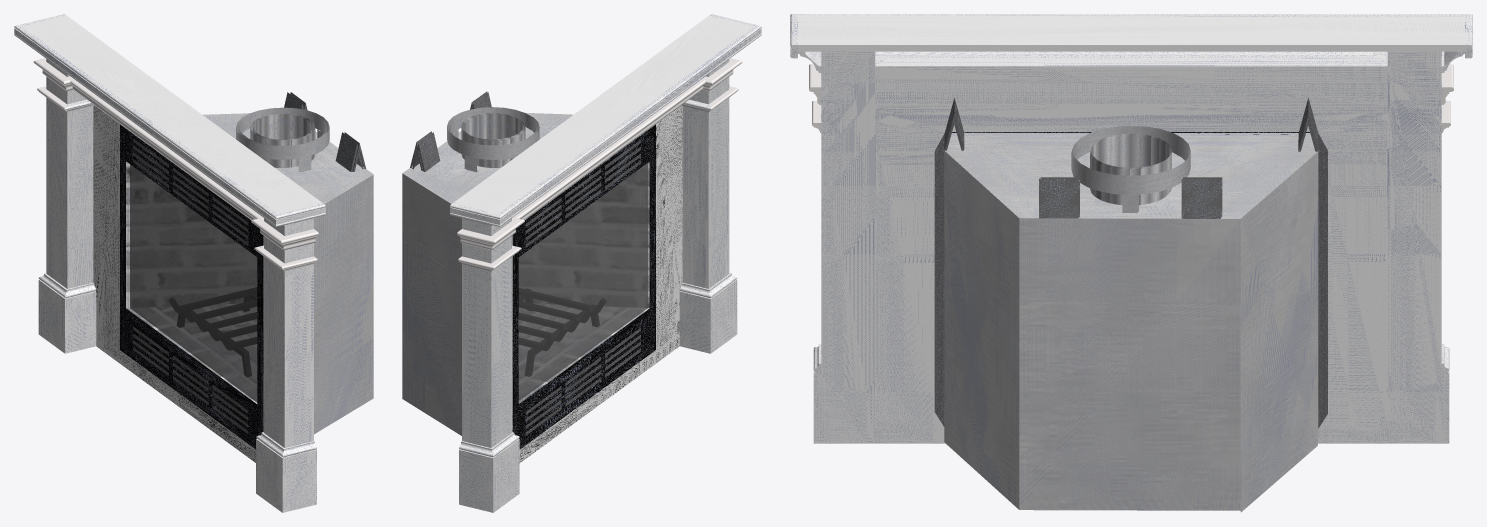
3 views of the same model, side by side, from view 1: azimuth 30°, elevation 25°; view 2: azimuth 150°, elevation 25°; view 3: azimuth 270°, elevation 25° (orthographic). The views are drawn at different scales.
Parts seen in each view (by area): view 1: group_2 (×6), WBFP-36 (×10), group_0, rail (×3), foot; view 2: group_2 (×6), WBFP-36 (×10), group_0, rail (×3), foot; view 3: group_2 (×2), WBFP-36 (×8), crown_moulding_3 (×2).
Boxes of the visible parts, x1,y1,x2,y2 form: group_2 (×6): [14, 14, 325, 512]; WBFP-36 (×10): [120, 107, 373, 449]; group_0: [130, 164, 257, 402]; rail (×3): [169, 287, 256, 331]; foot: [177, 310, 251, 376]; group_2 (×6): [450, 14, 761, 512]; WBFP-36 (×10): [402, 107, 655, 449]; group_0: [518, 163, 647, 400]; rail (×3): [519, 288, 606, 332]; foot: [525, 305, 599, 376]; group_2 (×2): [790, 14, 1472, 443]; WBFP-36 (×8): [934, 127, 1327, 512]; crown_moulding_3 (×2): [875, 51, 1372, 55].
Size of the model in its own units: 28.57 by 69.38 by 44.75.
Materials: 15 (5 with a texture image).
